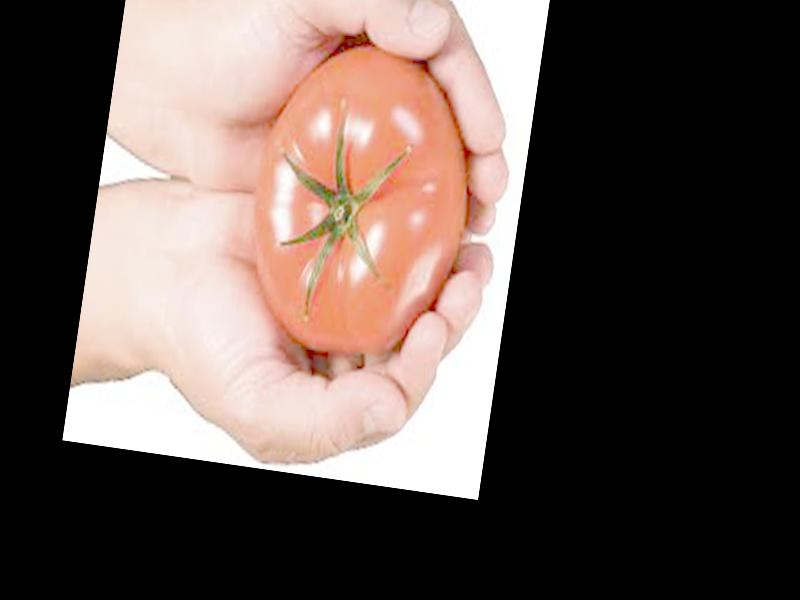Tomato: (237, 32, 484, 369)
